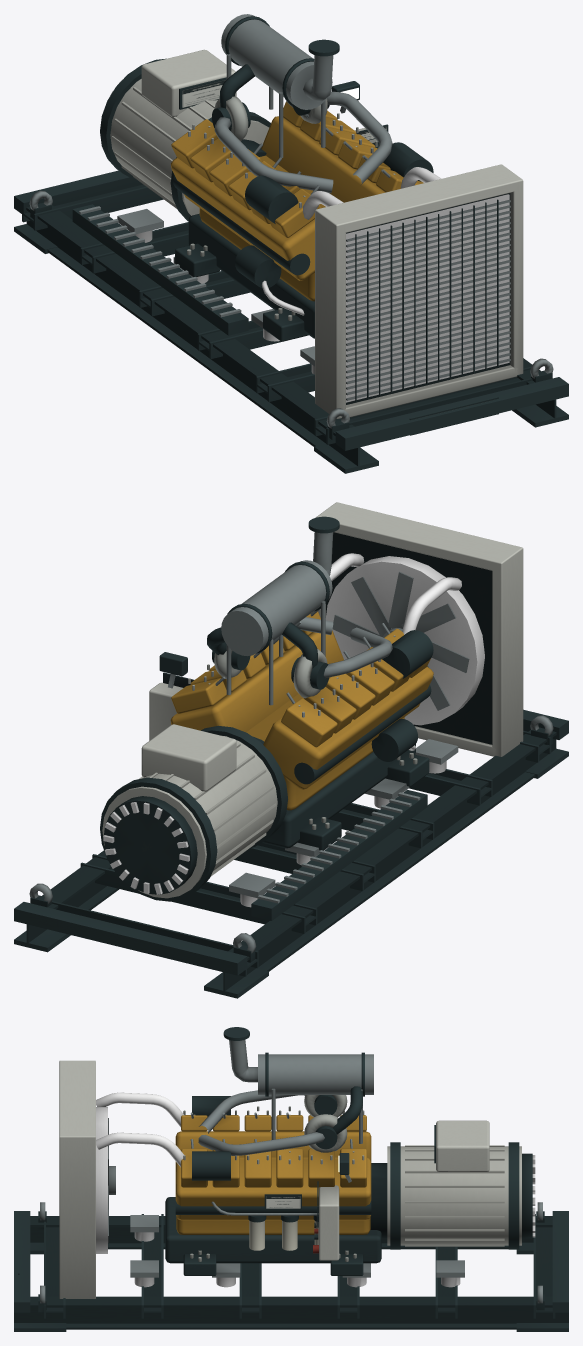
File: genset_single_lodH.glb
3 views of the same model, one above another, from view 1: azimuth 30°, elevation 25°; view 2: azimuth 150°, elevation 25°; view 3: azimuth 270°, elevation 25° (orthographic). The views are drawn at different scales.
Parts seen in each view (by area): view 1: skid_dark, radiator_rubber, radiator_ivory, engine_castings_yellow, radiator_steel, alternator_ivory, engine_castings_dark, exhaust_steel, radiator_dark, cable_tray_dark, turbochargers_and_intake_steel, turbochargers_and_intake_dark (+10 smaller); view 2: skid_dark, engine_castings_yellow, alternator_ivory, radiator_ivory, alternator_dark, radiator_rubber, engine_castings_dark, exhaust_steel, radiator_dark, cable_tray_dark, radiator_steel, isolation_mounts_steel (+11 smaller); view 3: skid_dark, engine_castings_yellow, alternator_ivory, radiator_ivory, engine_castings_dark, exhaust_steel, alternator_dark, turbochargers_and_intake_dark, turbochargers_and_intake_steel, isolation_mounts_steel, coolant_pipework_rubber, radiator_rubber (+10 smaller).
Boxes of the visible parts, x1,y1,x2,y2 form: skid_dark: [14, 170, 568, 473]; radiator_rubber: [346, 194, 509, 402]; radiator_ivory: [315, 164, 523, 418]; engine_castings_yellow: [170, 101, 423, 301]; radiator_steel: [346, 199, 510, 400]; alternator_ivory: [110, 49, 268, 215]; engine_castings_dark: [173, 175, 314, 341]; exhaust_steel: [221, 14, 333, 157]; radiator_dark: [346, 193, 510, 404]; cable_tray_dark: [72, 204, 248, 335]; turbochargers_and_intake_steel: [214, 91, 392, 193]; turbochargers_and_intake_dark: [212, 102, 433, 223]; skid_dark: [14, 709, 568, 998]; engine_castings_yellow: [170, 611, 433, 810]; alternator_ivory: [102, 724, 277, 898]; radiator_ivory: [315, 502, 523, 756]; alternator_dark: [100, 725, 287, 901]; radiator_rubber: [325, 556, 484, 725]; engine_castings_dark: [262, 684, 431, 850]; exhaust_steel: [221, 532, 333, 705]; radiator_dark: [326, 532, 492, 744]; cable_tray_dark: [251, 790, 427, 920]; radiator_steel: [332, 571, 469, 710]; isolation_mounts_steel: [229, 739, 458, 898]; skid_dark: [14, 1211, 568, 1331]; engine_castings_yellow: [175, 1115, 371, 1234]; alternator_ivory: [387, 1120, 521, 1246]; radiator_ivory: [59, 1060, 95, 1298]; engine_castings_dark: [165, 1197, 381, 1275]; exhaust_steel: [229, 1040, 373, 1143]; alternator_dark: [390, 1125, 532, 1249]; turbochargers_and_intake_dark: [192, 1095, 337, 1180]; turbochargers_and_intake_steel: [198, 1090, 324, 1155]; isolation_mounts_steel: [130, 1215, 464, 1277]; coolant_pipework_rubber: [96, 1092, 184, 1167]; radiator_rubber: [96, 1107, 107, 1253].
Bounding box in the file's own units: 2.68 × 3.43 × 6.8.
11 materials, 11 textured.
